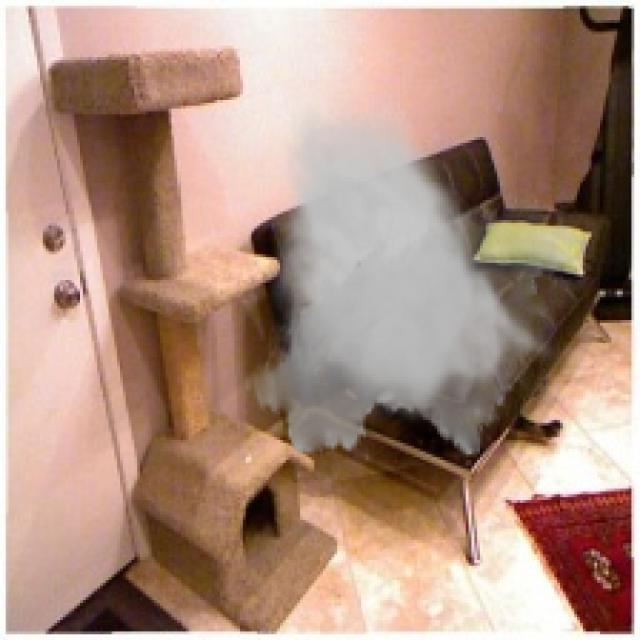Smoke: (242, 88, 588, 466)
